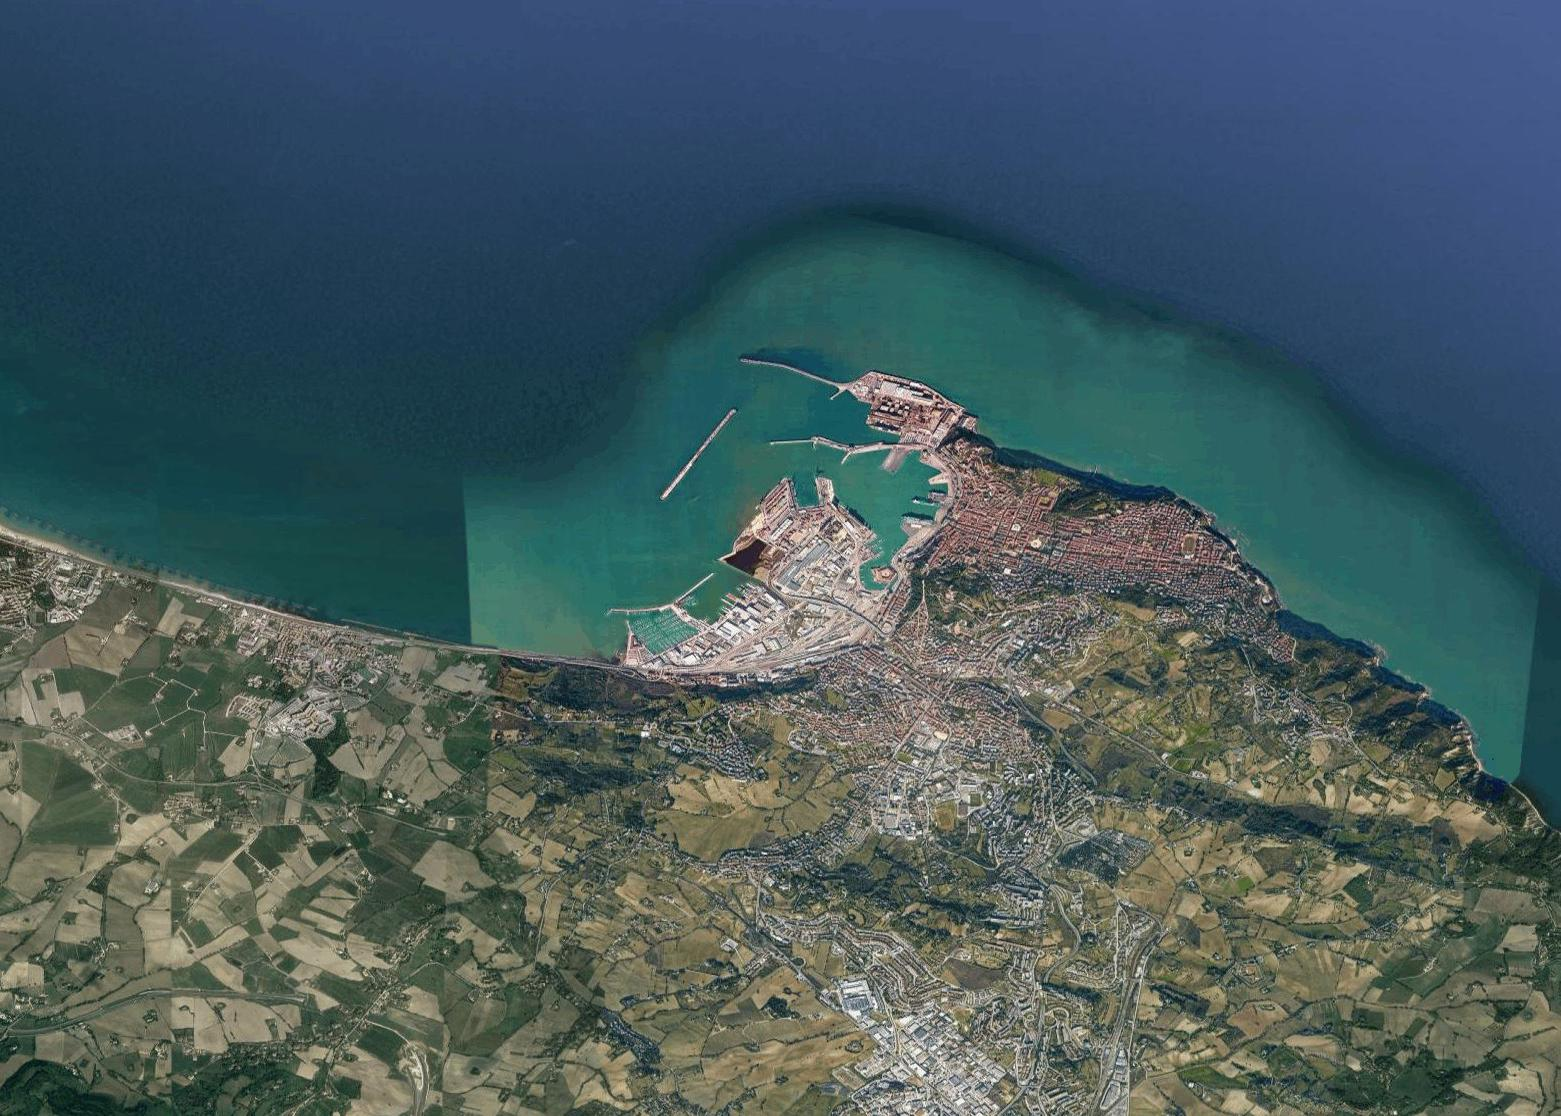harbor: (601, 335, 961, 672)
industrial: (870, 1019, 989, 1110)
train_station: (791, 633, 850, 659)
